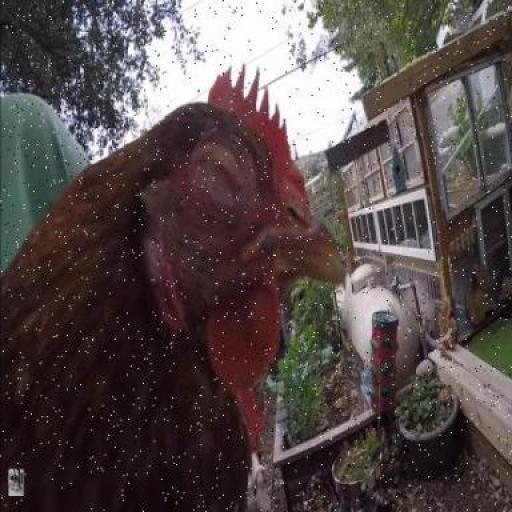disease: (164, 123, 275, 232)
